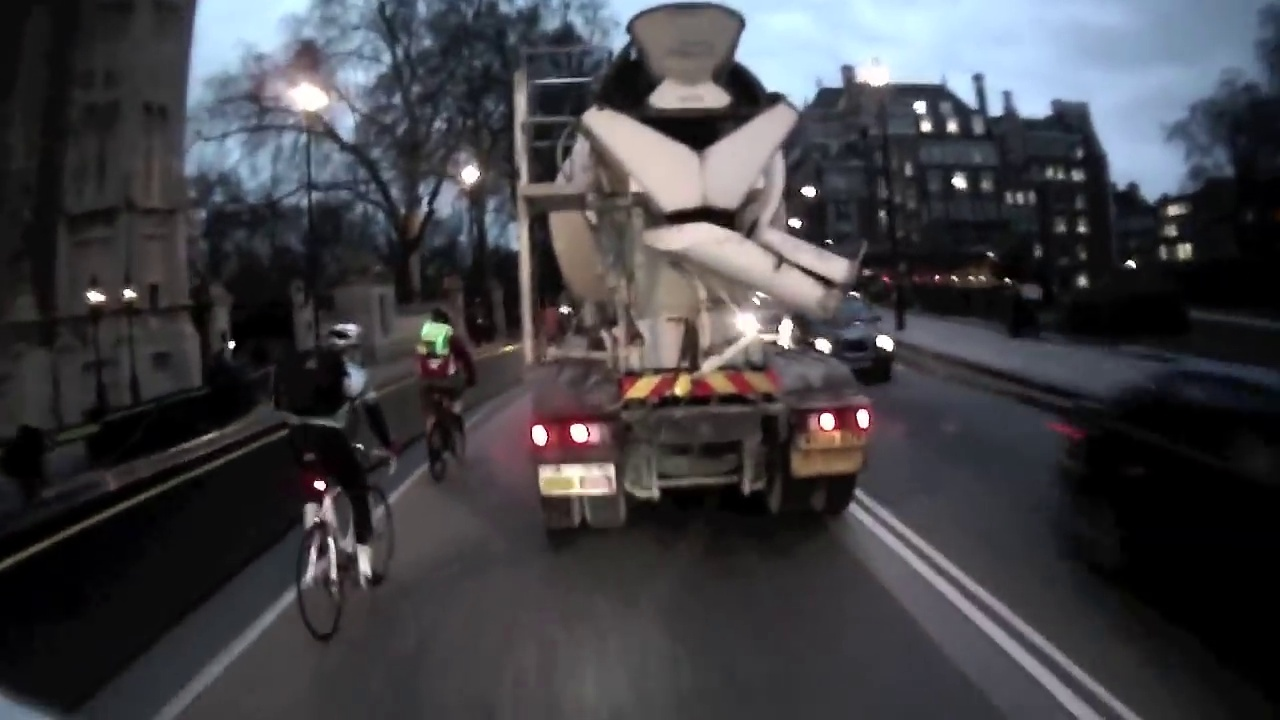cyclist_back: (281, 312, 404, 629), (402, 295, 482, 489)
